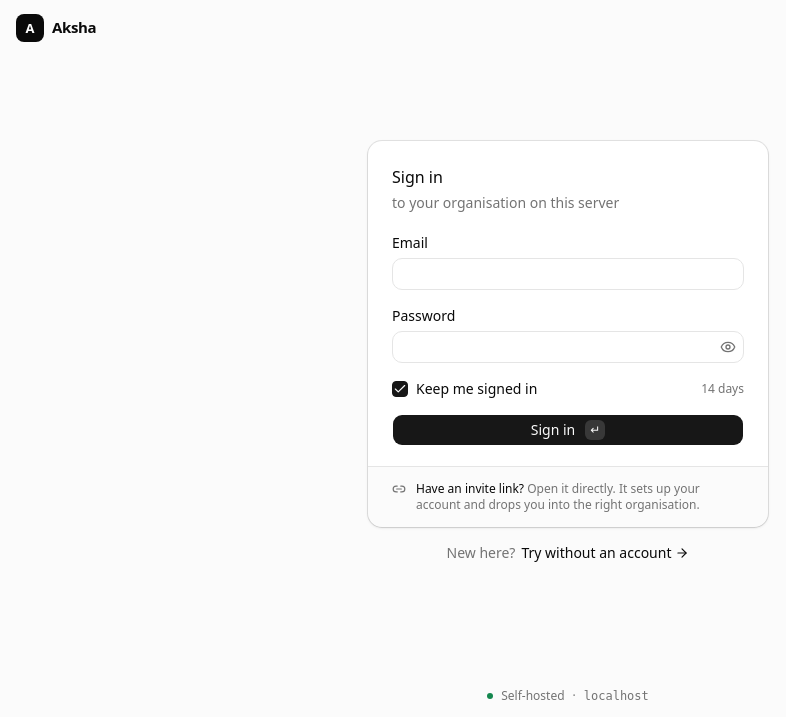
Test: SignIn › shows the server's refusal inline with its code
In the field labelled "Email": {"x": 568, "y": 274} x1=392 y1=258 x2=744 y2=290, type "ana@example.com"
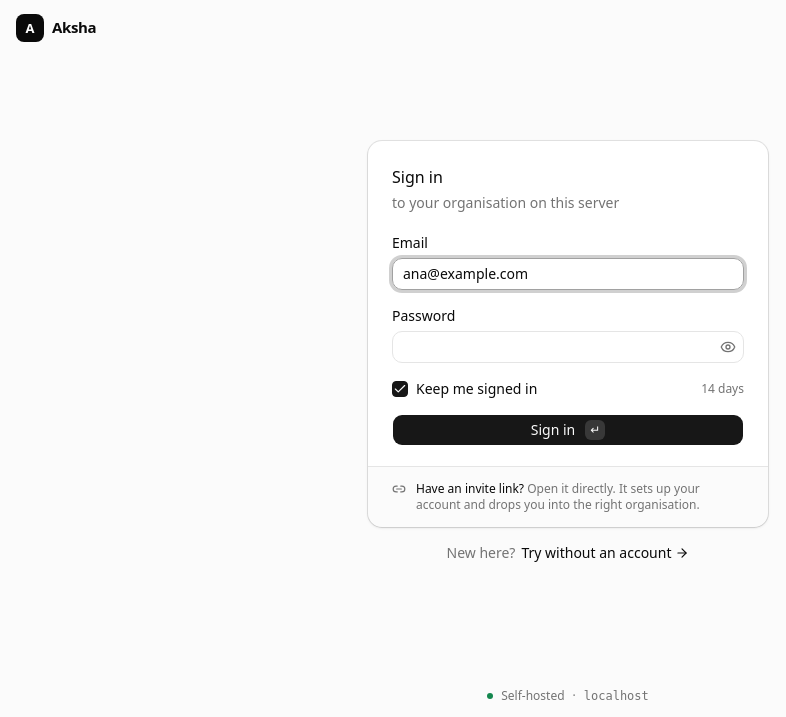
In the password field labelled "Password": {"x": 554, "y": 347} x1=393 y1=331 x2=716 y2=363, type "wrong-password"
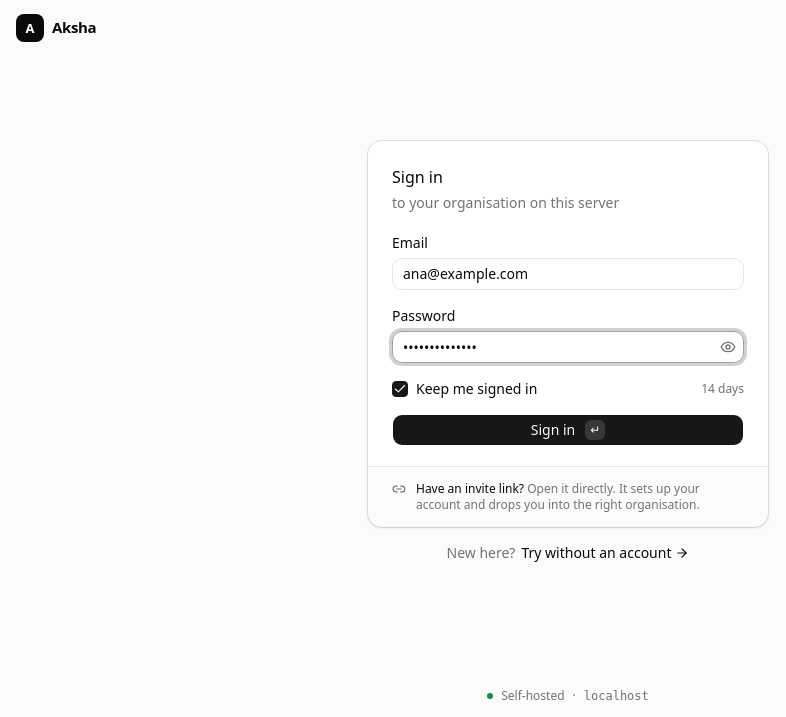
Click the button "Sign in ↵": {"x": 568, "y": 430} x1=392 y1=414 x2=744 y2=446
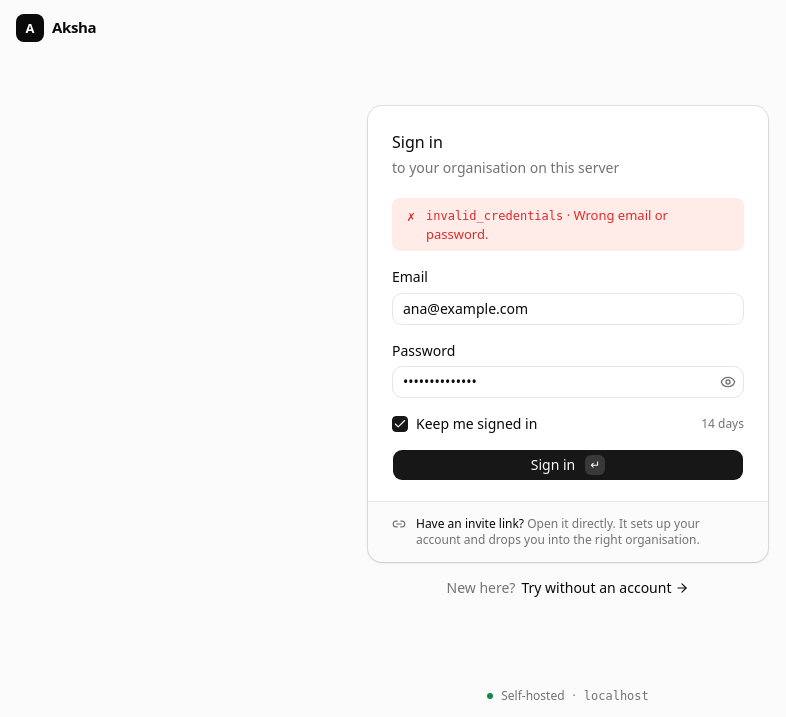
Now the message shows "invalid_credentials", box x1=426 y1=209 x2=563 y2=223
Now the message shows "Wrong email or password.", box x1=426 y1=206 x2=668 y2=243
